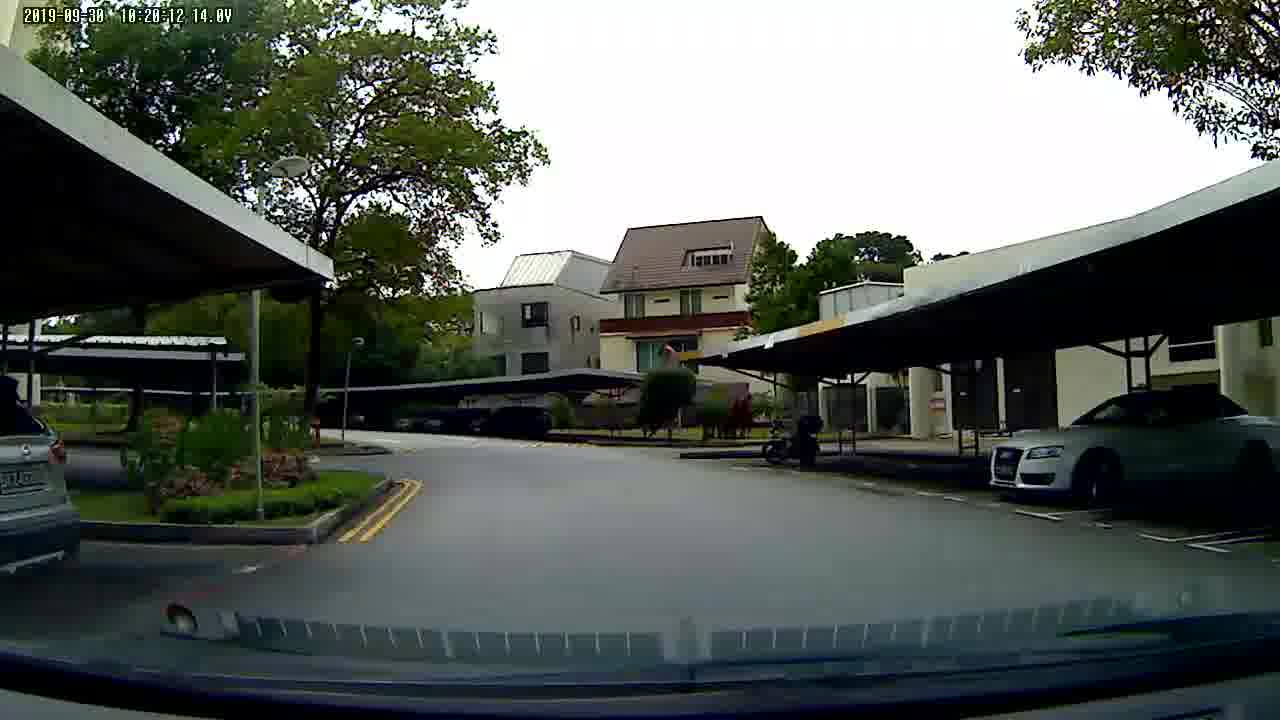car: (989, 381, 1280, 512), (1, 364, 92, 607)
